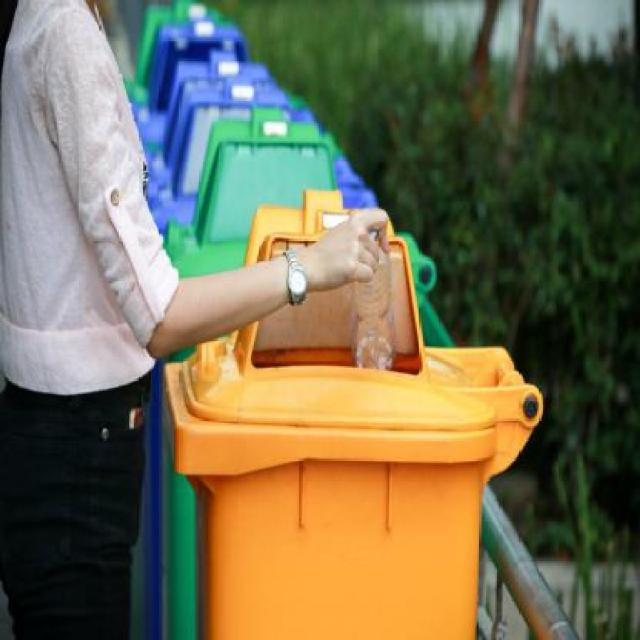garbage container: (151, 313, 547, 639)
